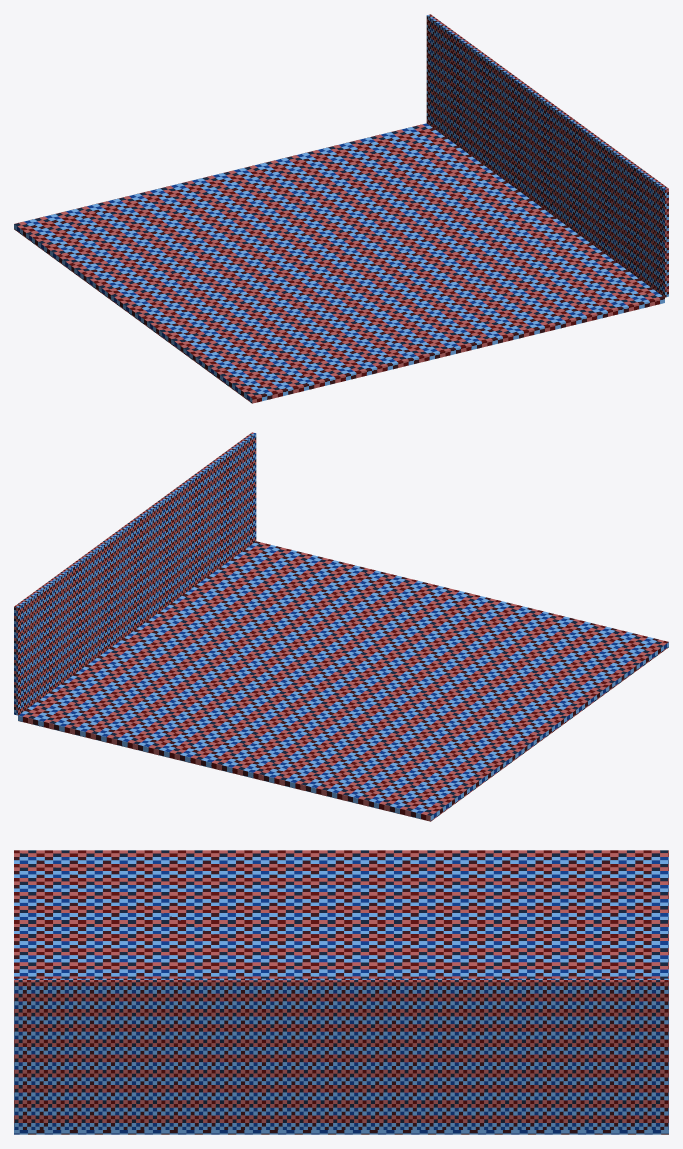
Rendered from catWalk_Large_Onerail_01.fbx.
The picture shows the model from 3 angles, top to bottom: view 1: azimuth 30°, elevation 25°; view 2: azimuth 150°, elevation 25°; view 3: azimuth 270°, elevation 25°; orthographic projection. The views are drawn at different scales.
Parts seen in each view (by area): view 1: catWalk_Large_Onerail_01; view 2: catWalk_Large_Onerail_01; view 3: catWalk_Large_Onerail_01.
Boxes of the visible parts, bbox=[...] form: catWalk_Large_Onerail_01: bbox=[14, 14, 668, 403]; catWalk_Large_Onerail_01: bbox=[14, 432, 668, 821]; catWalk_Large_Onerail_01: bbox=[14, 850, 668, 1134].
Bounding box in the file's own units: 404 × 105 × 400.
Materials: 1 (1 with a texture image).
